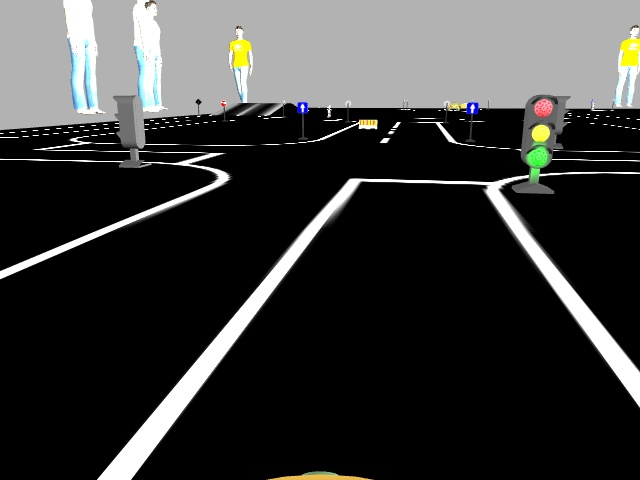ClosedRoadStand: (358, 119, 376, 129)
OneWay: (466, 102, 477, 115), (297, 101, 307, 112)
TrafficLight: (520, 93, 559, 169)
